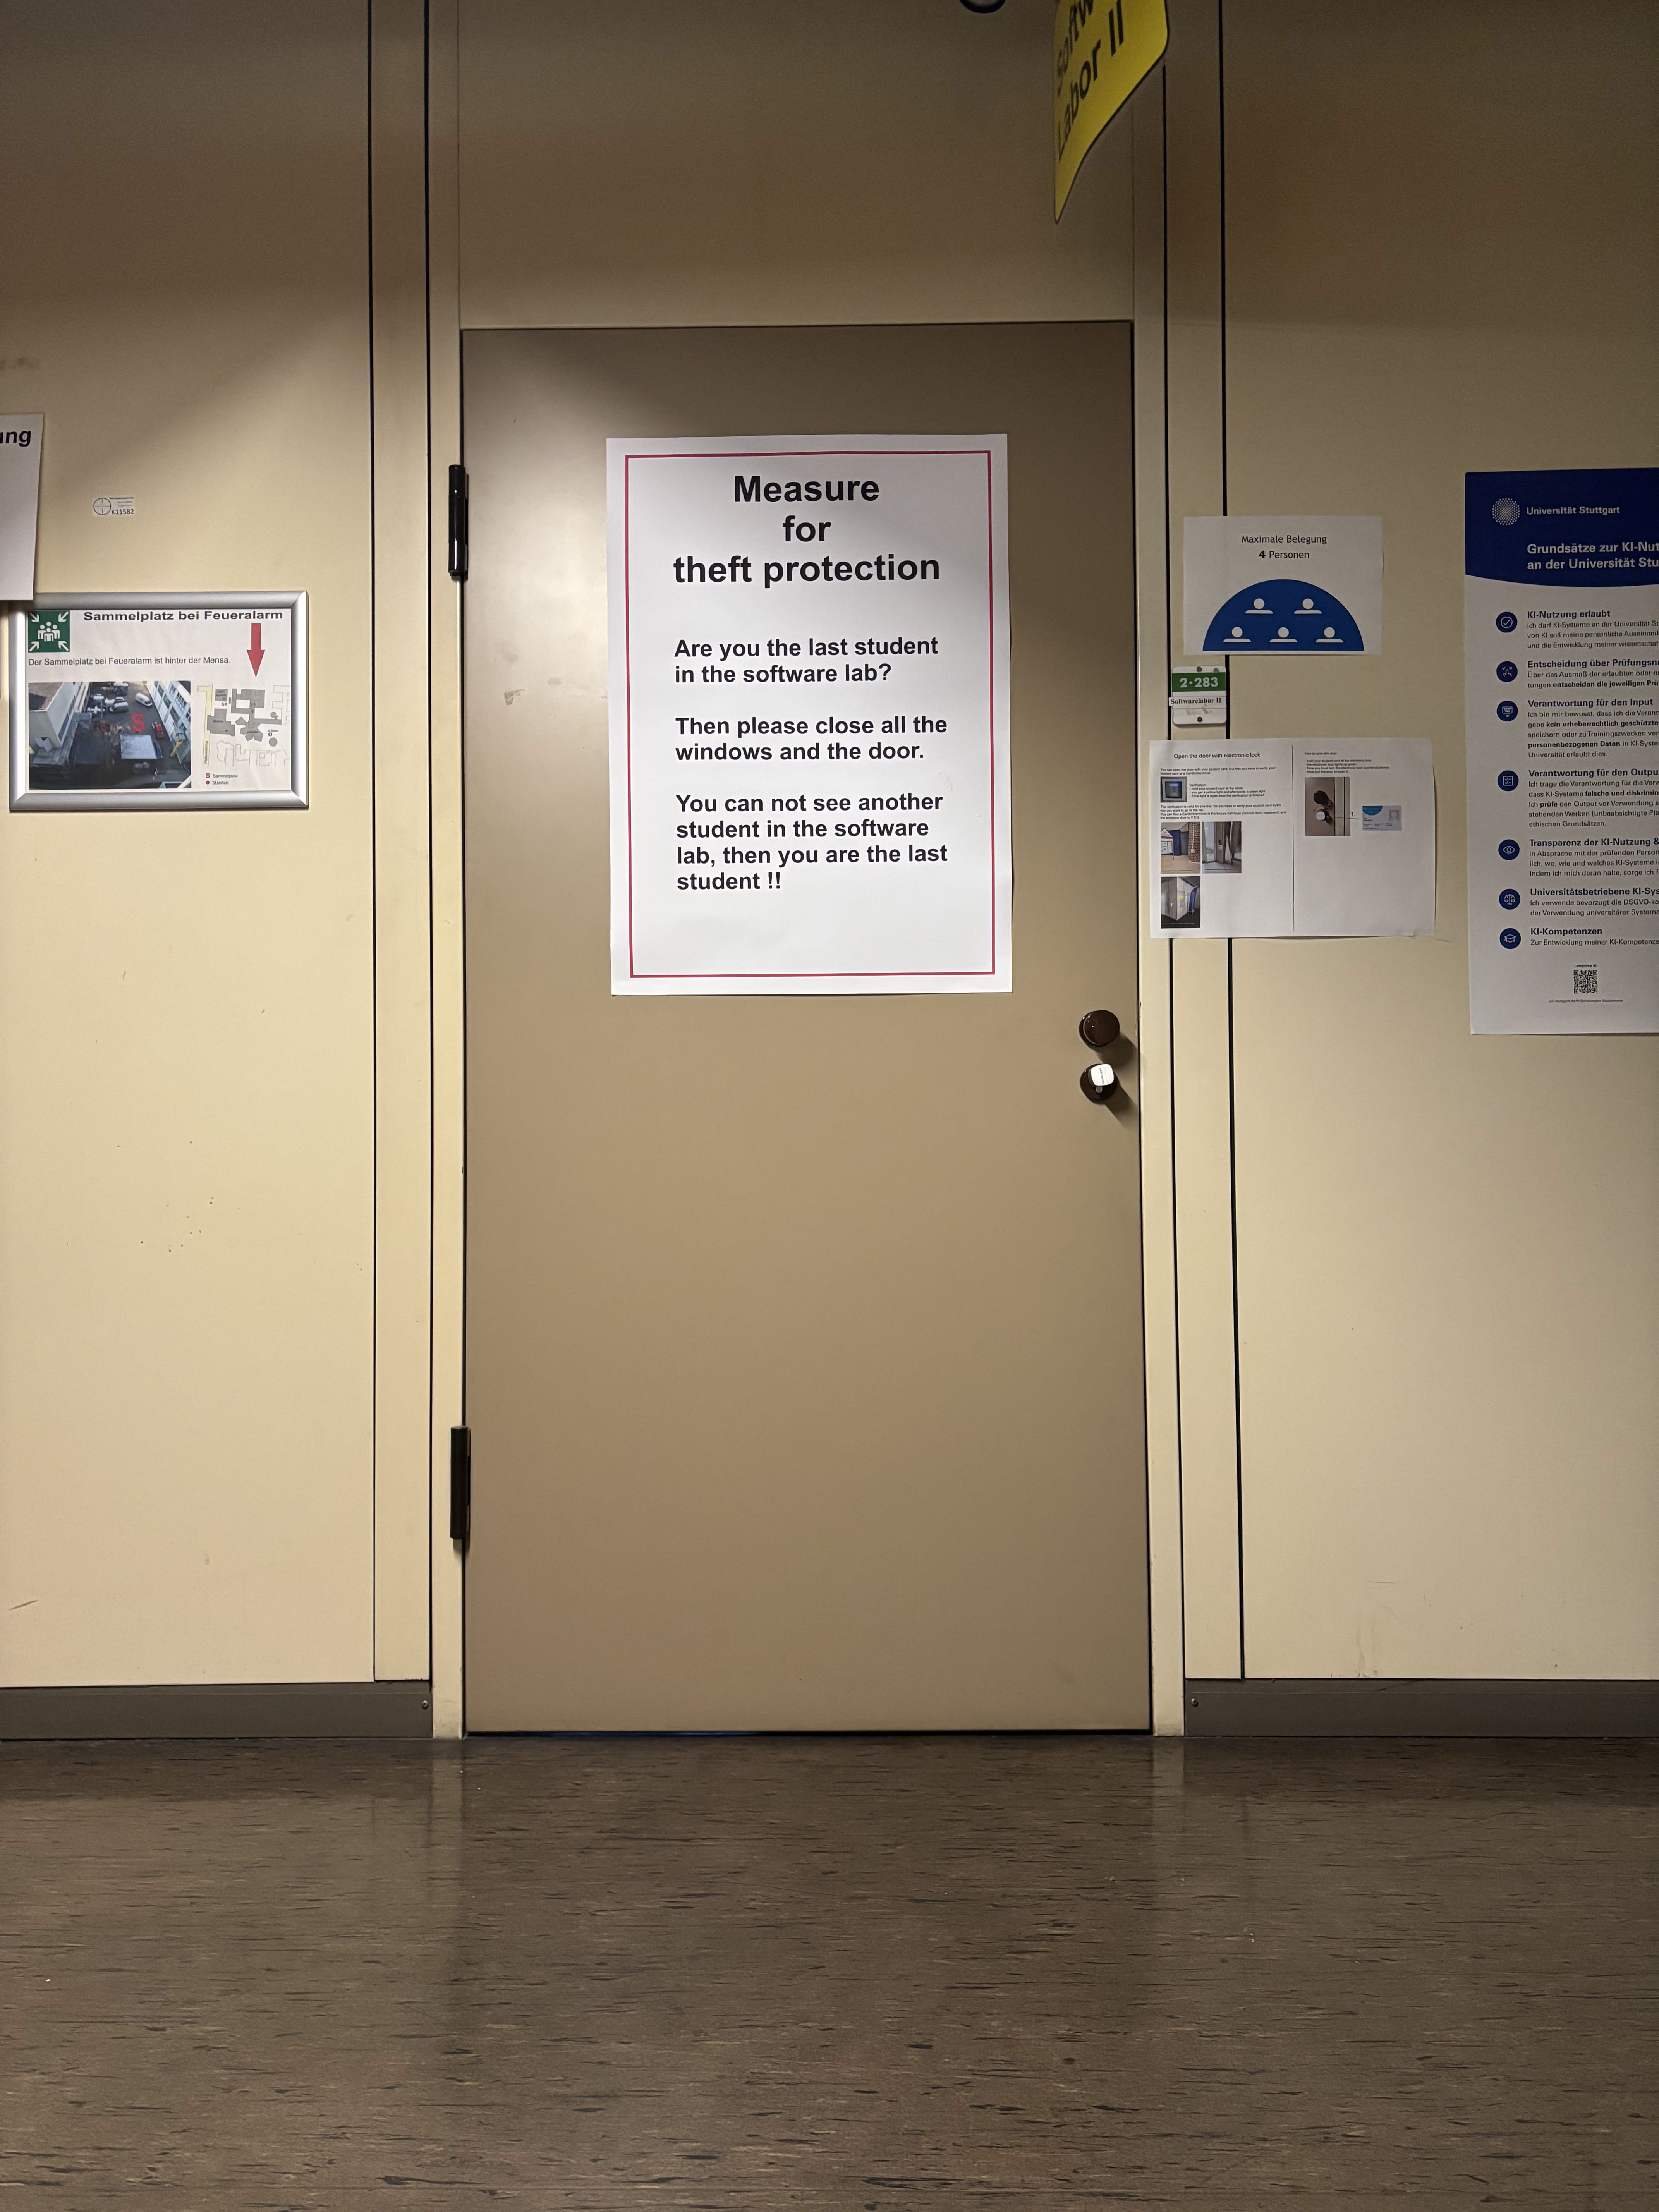door_single: (437, 296, 1176, 1735)
handle: (1072, 1001, 1127, 1106)
